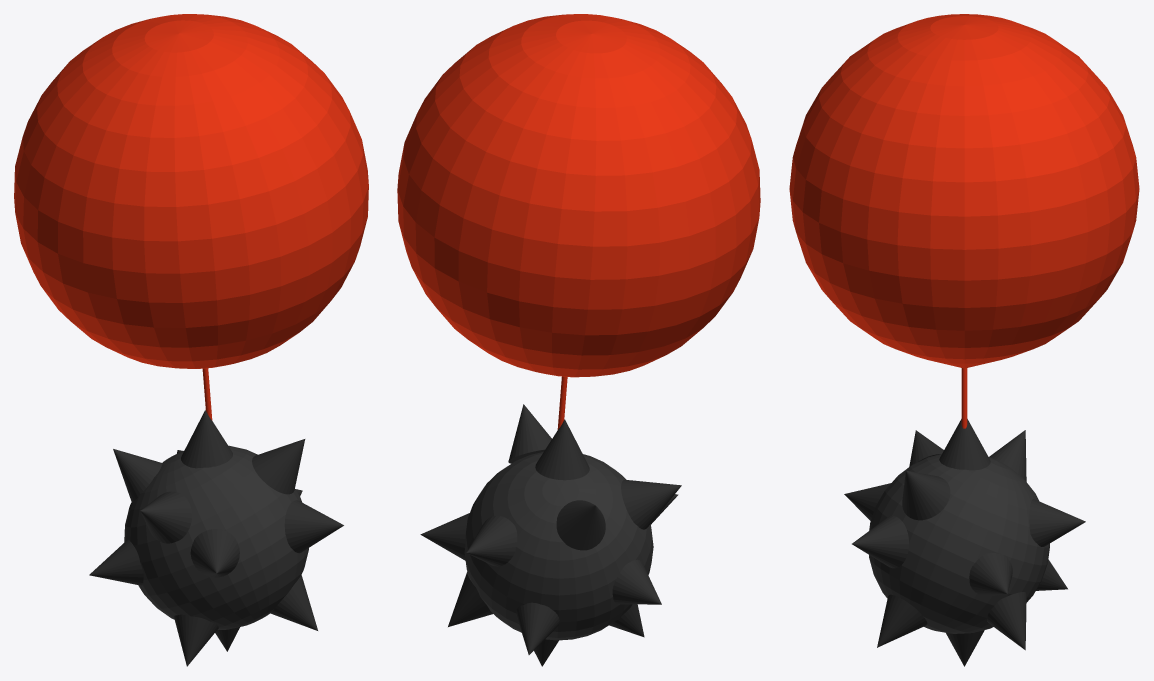
File: wall_3_bird.fbx
The picture shows the model from 3 angles, left to right: view 1: azimuth 30°, elevation 25°; view 2: azimuth 150°, elevation 25°; view 3: azimuth 270°, elevation 25°; orthographic projection. The views are drawn at different scales.
Parts seen in each view (by area): view 1: 구체.001, 구체, 원뿔.010; view 2: 구체.001, 구체, 원뿔.010; view 3: 구체.001, 구체, 원뿔.010.
Boxes of the visible parts, x1,y1,x2,y2 form: 구체.001: [14, 14, 368, 420]; 구체: [124, 445, 308, 629]; 원뿔.010: [89, 410, 343, 666]; 구체.001: [397, 14, 760, 429]; 구체: [464, 452, 653, 640]; 원뿔.010: [420, 404, 681, 666]; 구체.001: [789, 14, 1139, 428]; 구체: [869, 454, 1049, 633]; 원뿔.010: [844, 419, 1085, 666].
Bounding box in the file's own units: 384 × 753 × 386.
